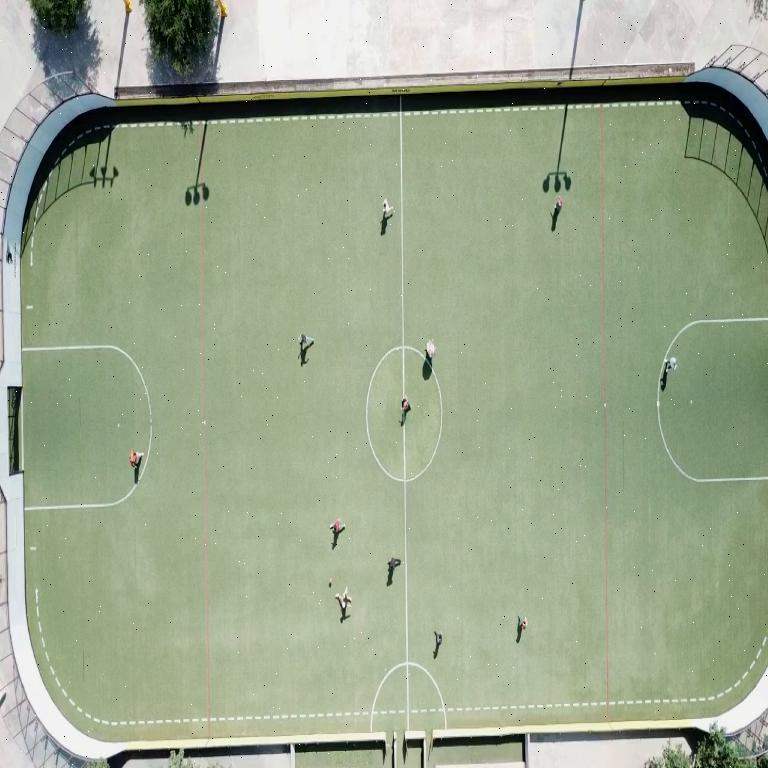AC: (22, 346, 152, 459), (657, 382, 768, 482), (29, 489, 135, 508), (668, 320, 709, 352), (709, 317, 768, 323)
B: (329, 578, 332, 587)
MC: (402, 410, 409, 728)
P: (334, 588, 350, 617), (330, 519, 344, 548), (400, 396, 410, 425), (129, 450, 143, 469), (389, 558, 401, 577), (433, 631, 441, 658), (382, 199, 392, 218), (426, 340, 435, 360), (298, 333, 312, 344), (556, 198, 563, 214), (519, 617, 527, 629), (670, 358, 677, 369)
